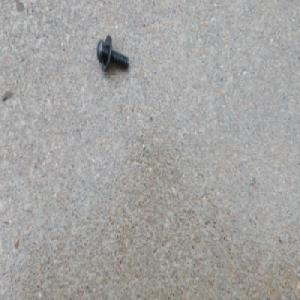BoltWasher: (96, 32, 130, 72)
